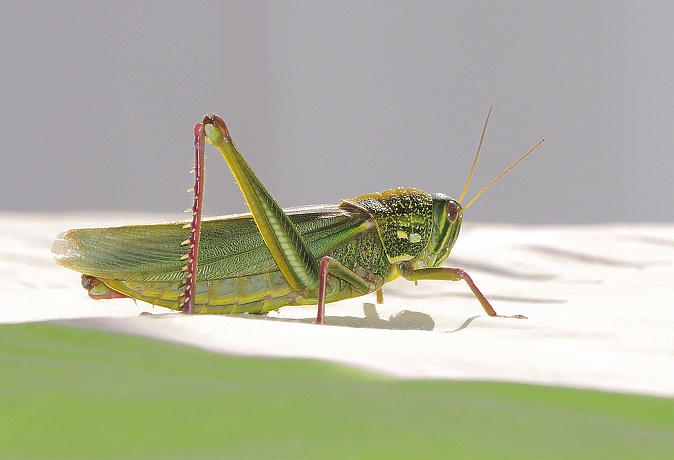huangchong: (59, 116, 499, 325)
